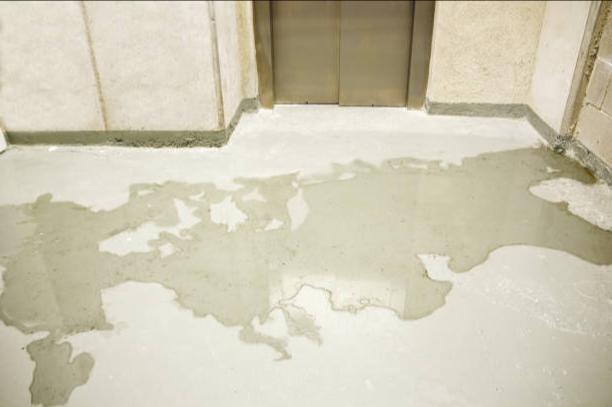water accumulation: (0, 142, 611, 407)
